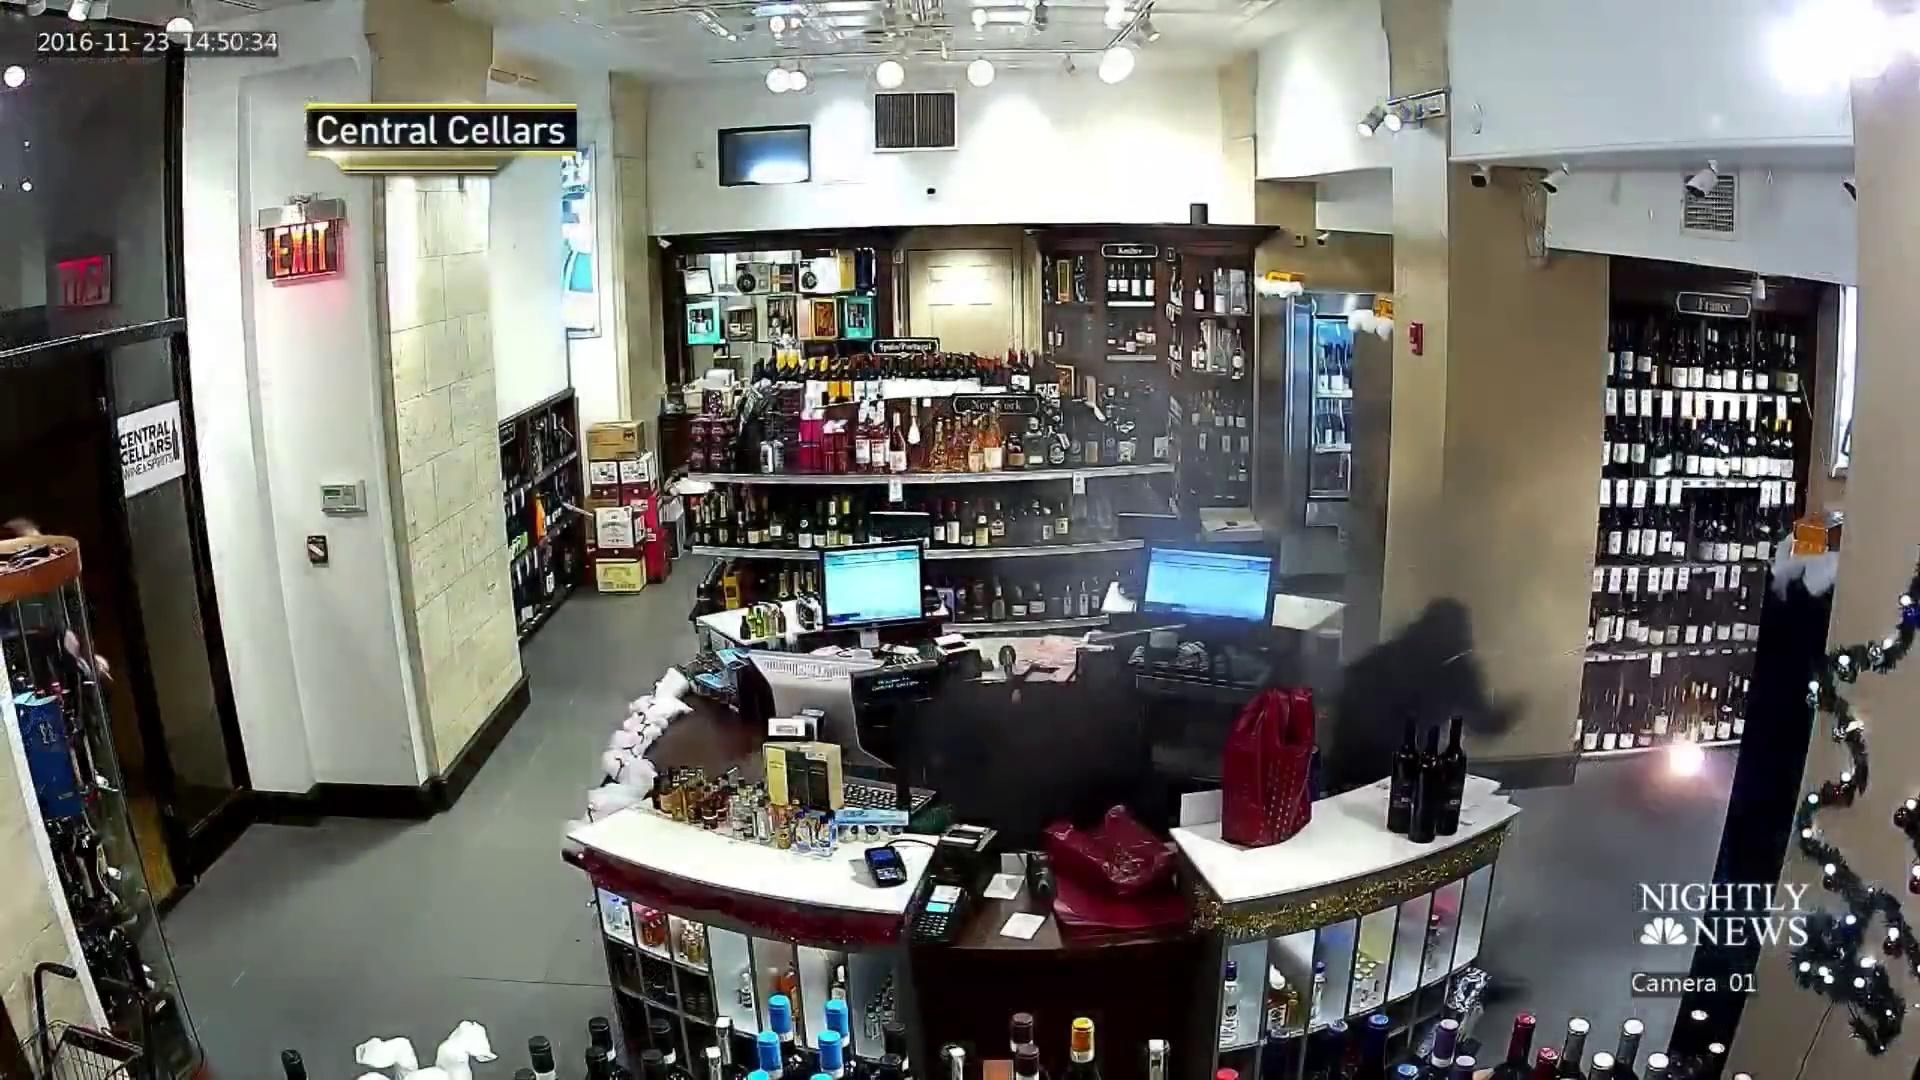fire: (1629, 687, 1730, 815)
